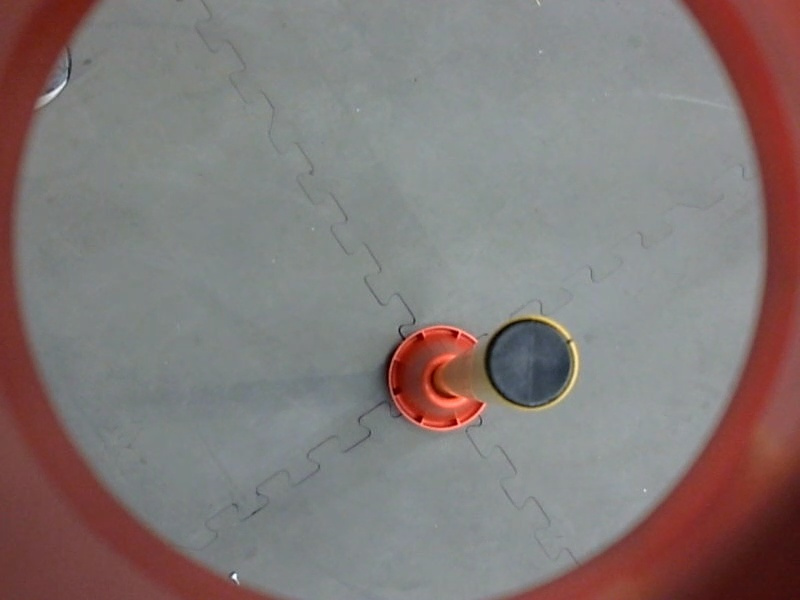tip: (478, 308, 586, 421)
